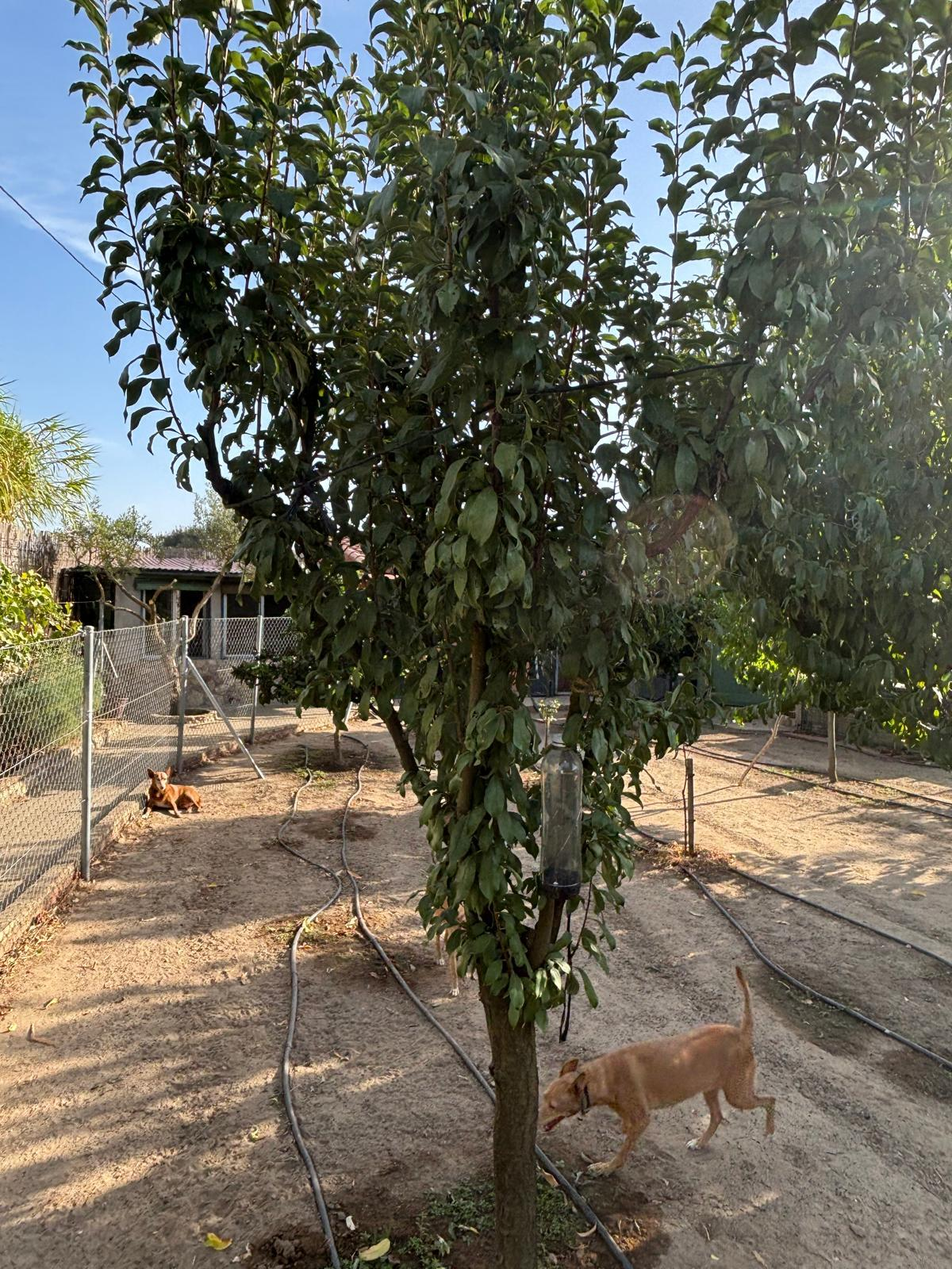nectarino: (111, 112, 757, 1232)
